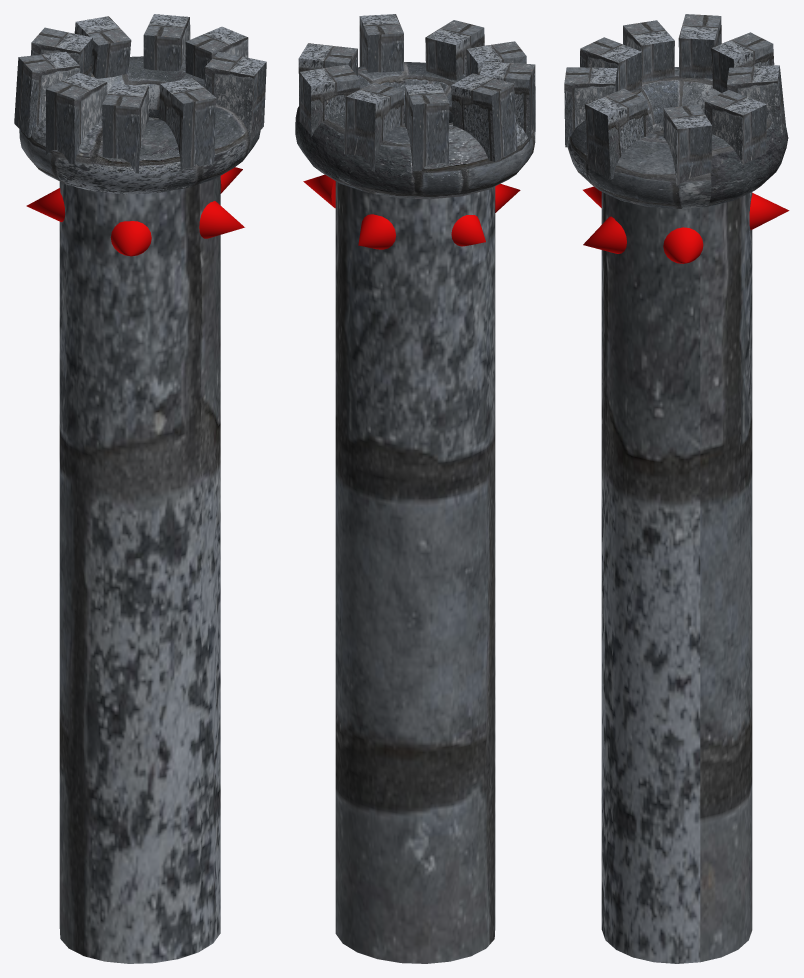
The model's file is CastlePillar3.fbx.
The picture shows the model from 3 angles, left to right: view 1: azimuth 30°, elevation 25°; view 2: azimuth 150°, elevation 25°; view 3: azimuth 270°, elevation 25°; orthographic projection.
Visible parts, largest first — view 1: piller; view 2: piller; view 3: piller.
Boxes of the visible parts, box(x1,y1,x2,y2) form: piller: box(14, 14, 266, 963); piller: box(295, 14, 535, 963); piller: box(564, 14, 789, 963).
Bounding box in the file's own units: 12.21 × 47.45 × 11.18.
